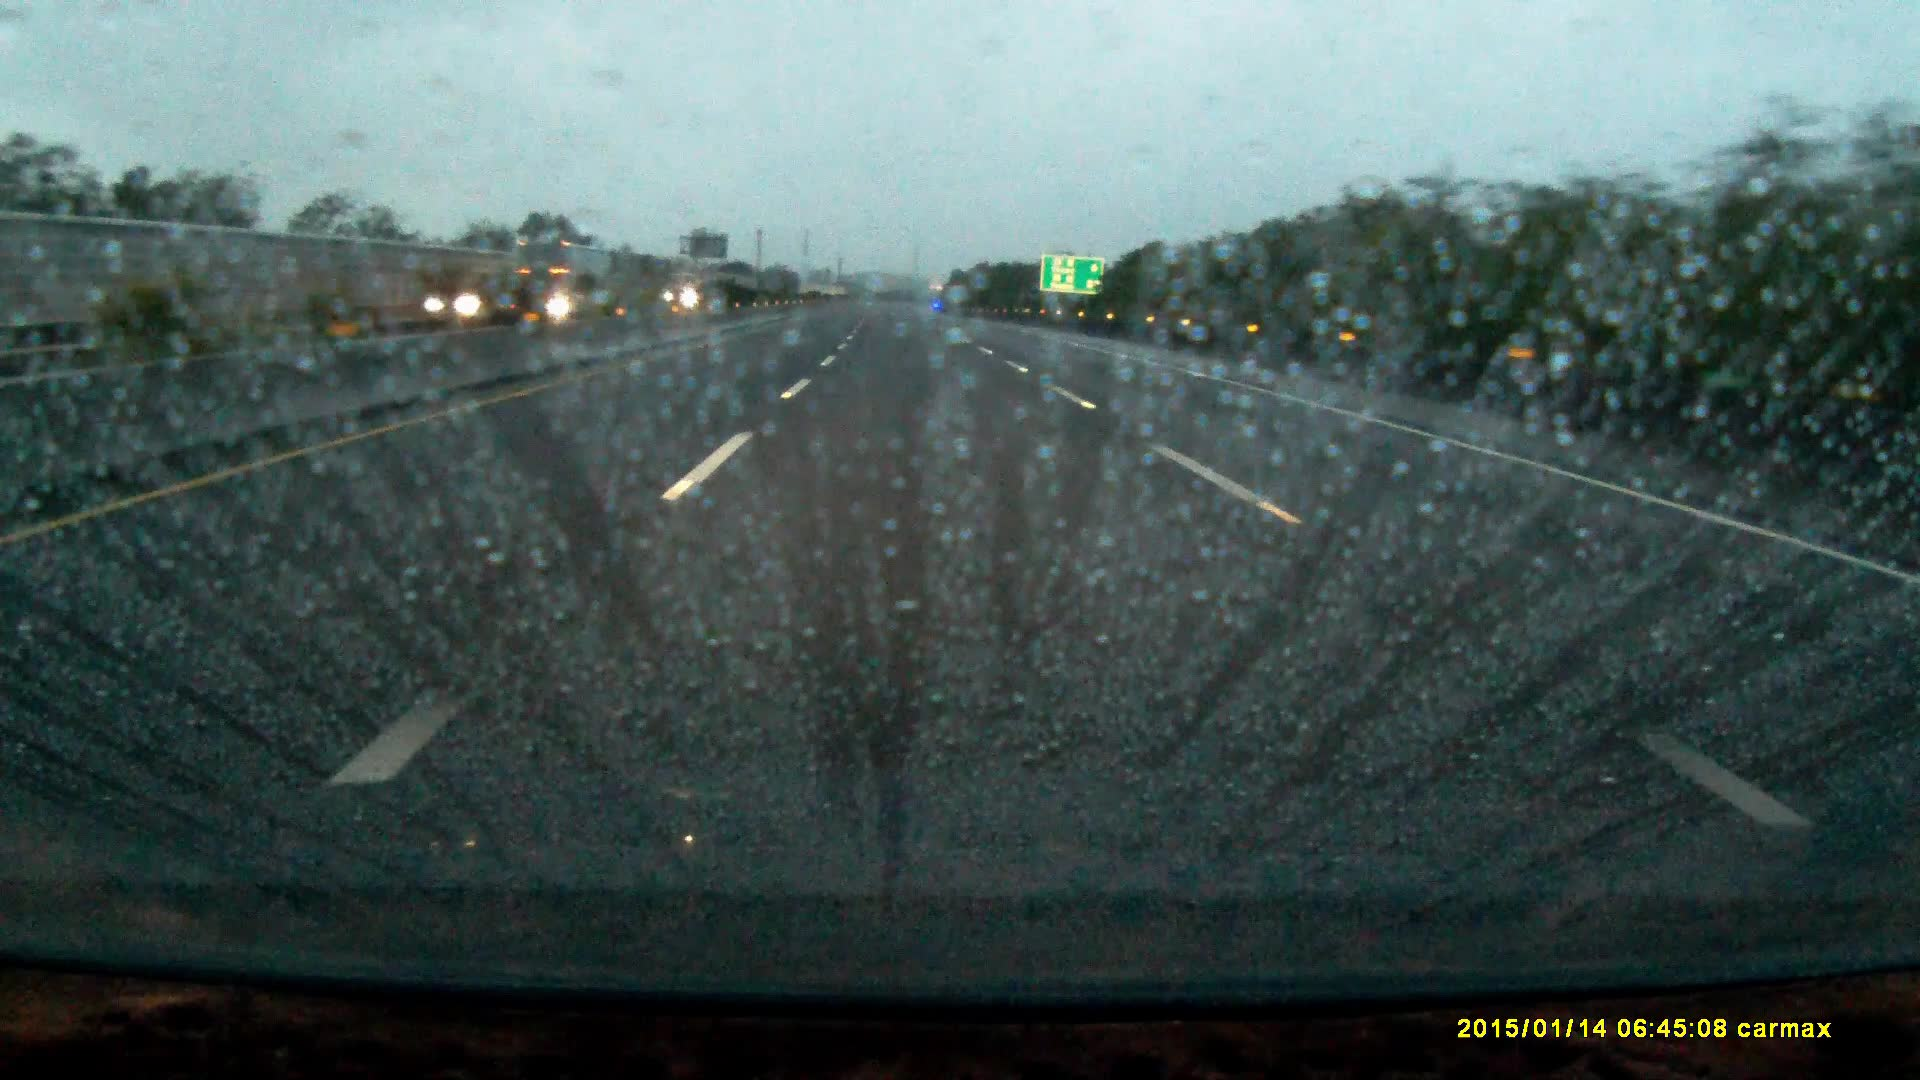vehicle: (517, 241, 616, 320), (422, 284, 502, 328)
